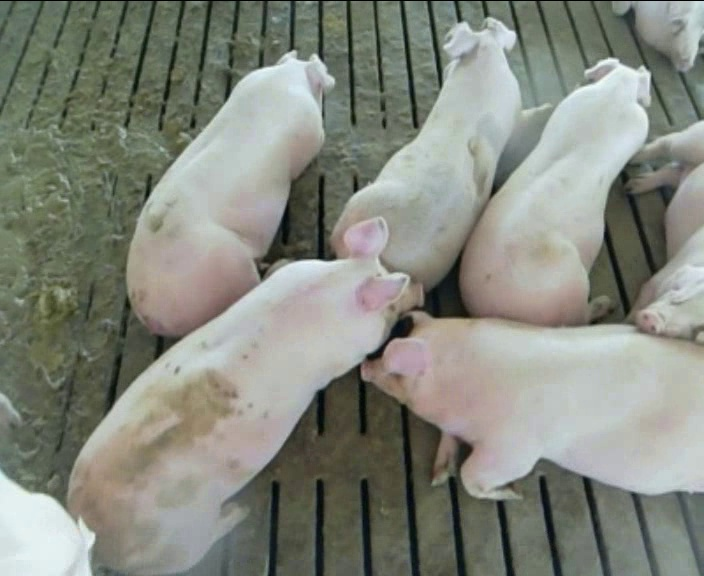pig: (68, 217, 423, 573), (362, 311, 703, 497), (331, 18, 552, 289), (127, 51, 334, 336), (461, 58, 650, 325), (627, 121, 703, 342)
